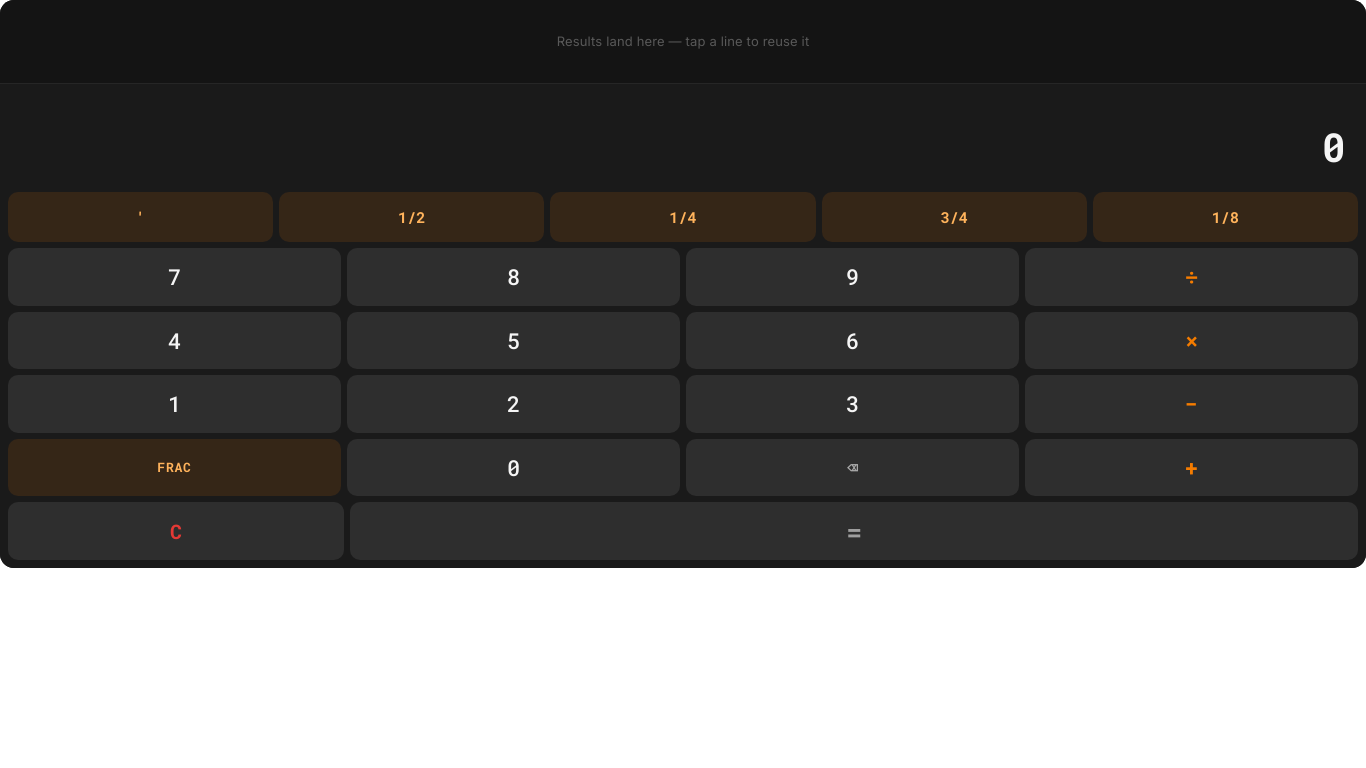
it: TapeCalc UI › division by zero shows error
This screenshot has width=1366, height=768.
Click the button "5". click: point(514, 340)
box: [347,312,680,369]
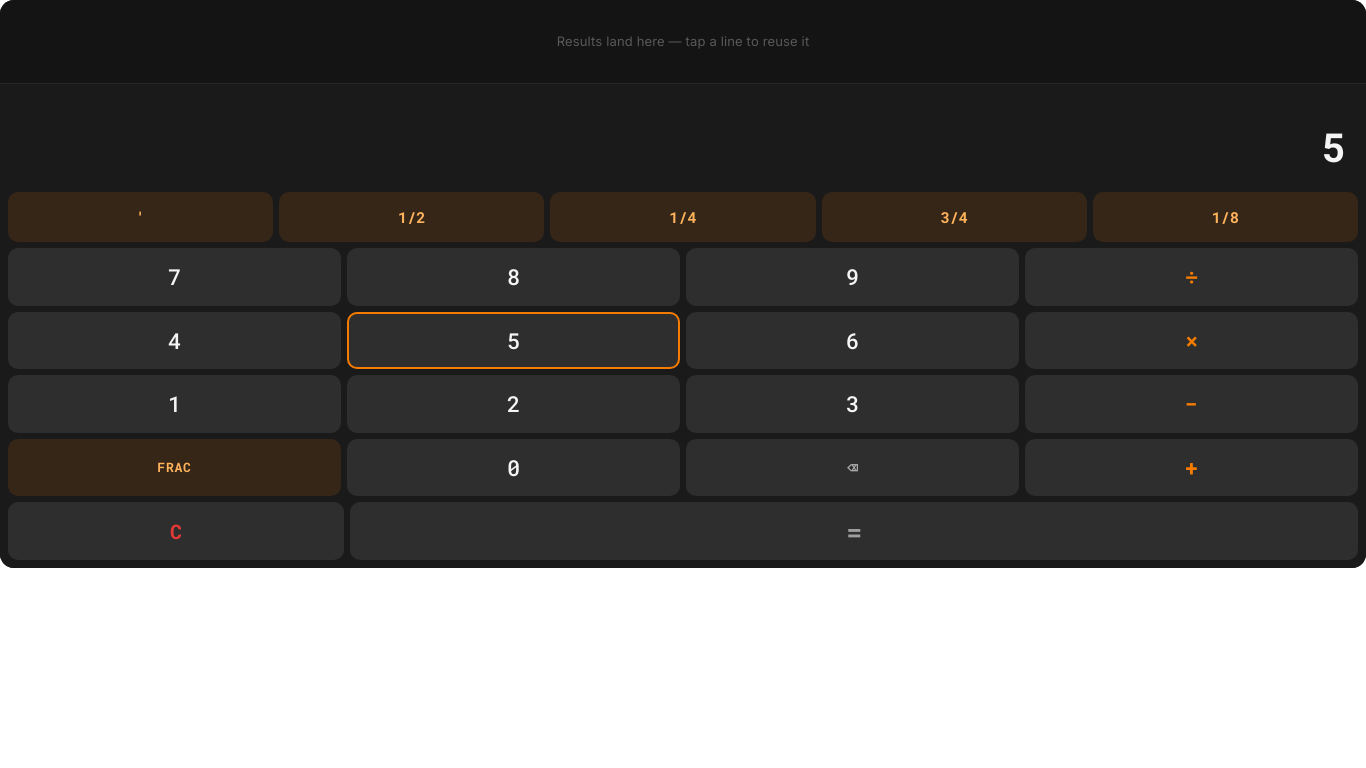
Click the button named "divide". click: point(1192, 277)
box: [1025,248,1358,306]
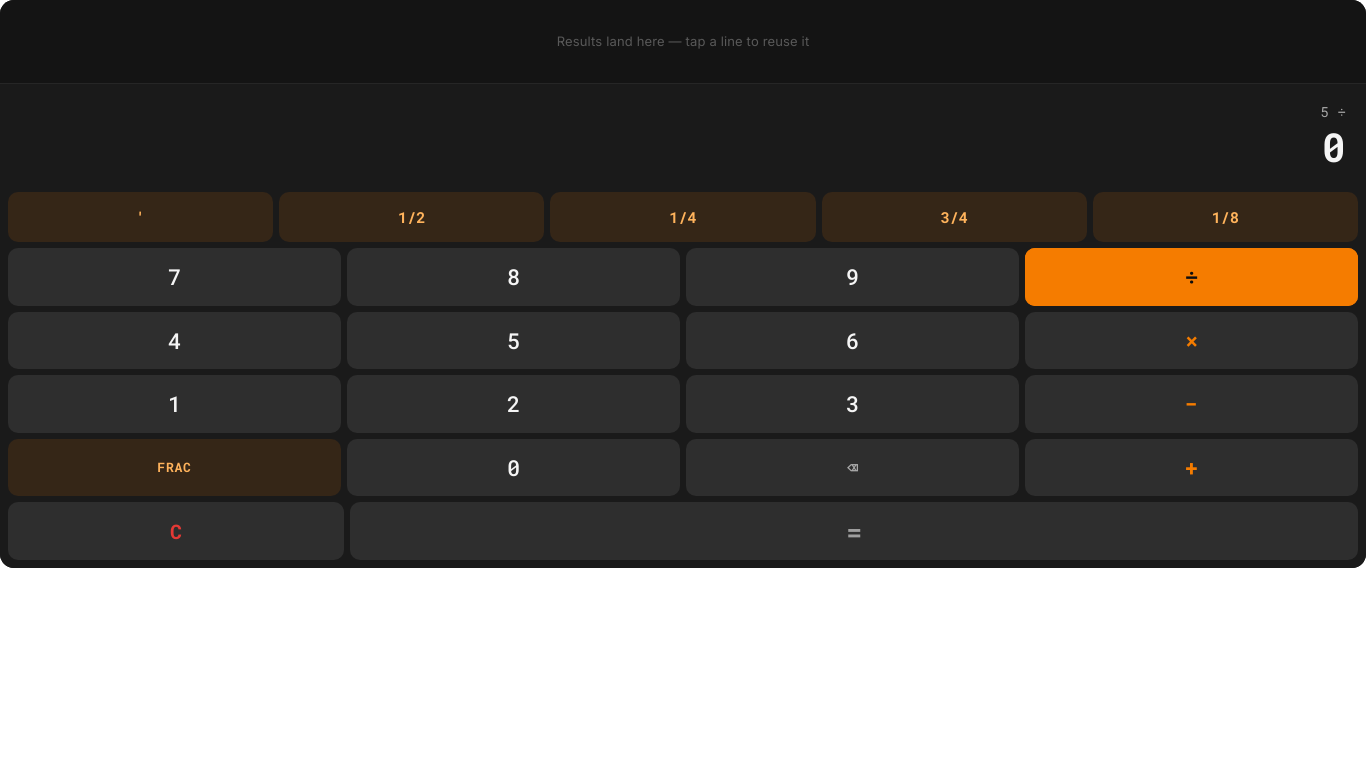
Click the button "0". click: point(514, 468)
box: [347,439,680,496]
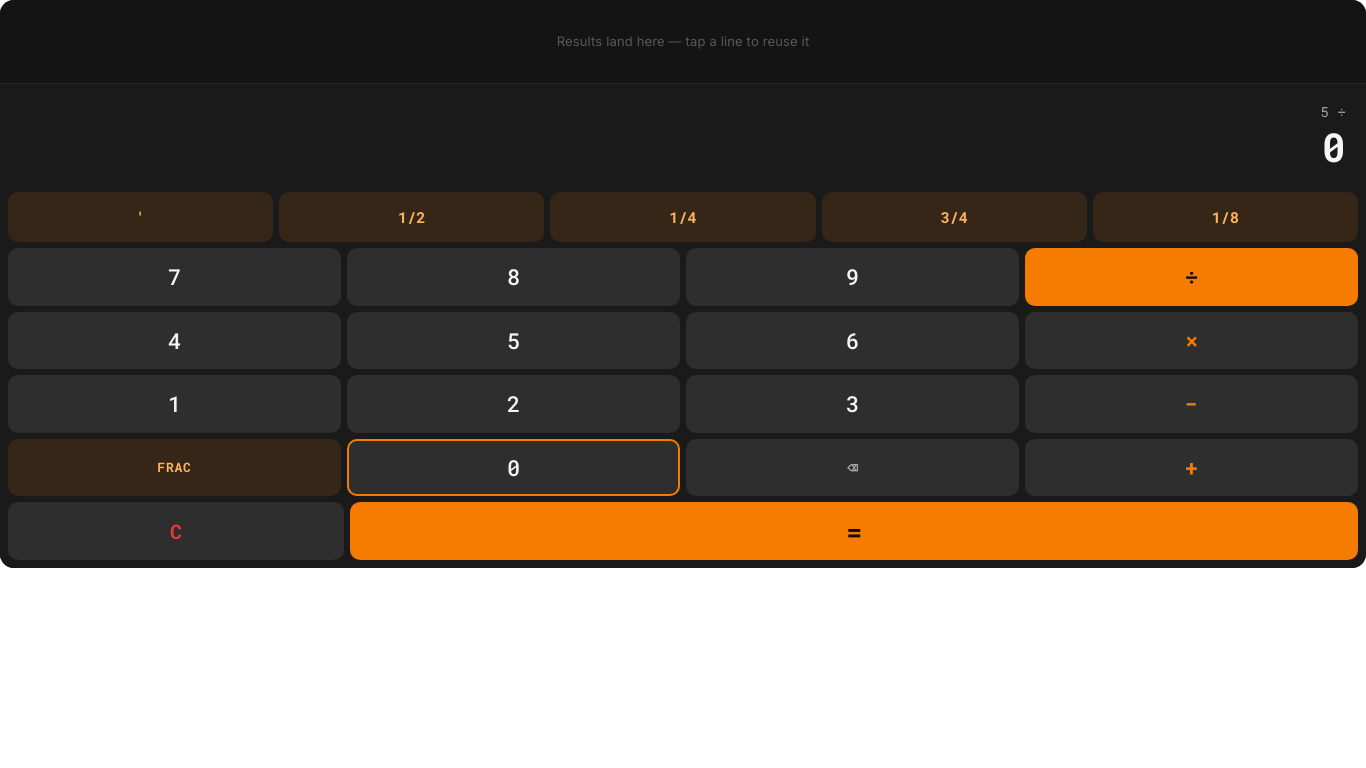
Click the button named "calculate". click: point(854, 531)
box: [350,502,1358,560]
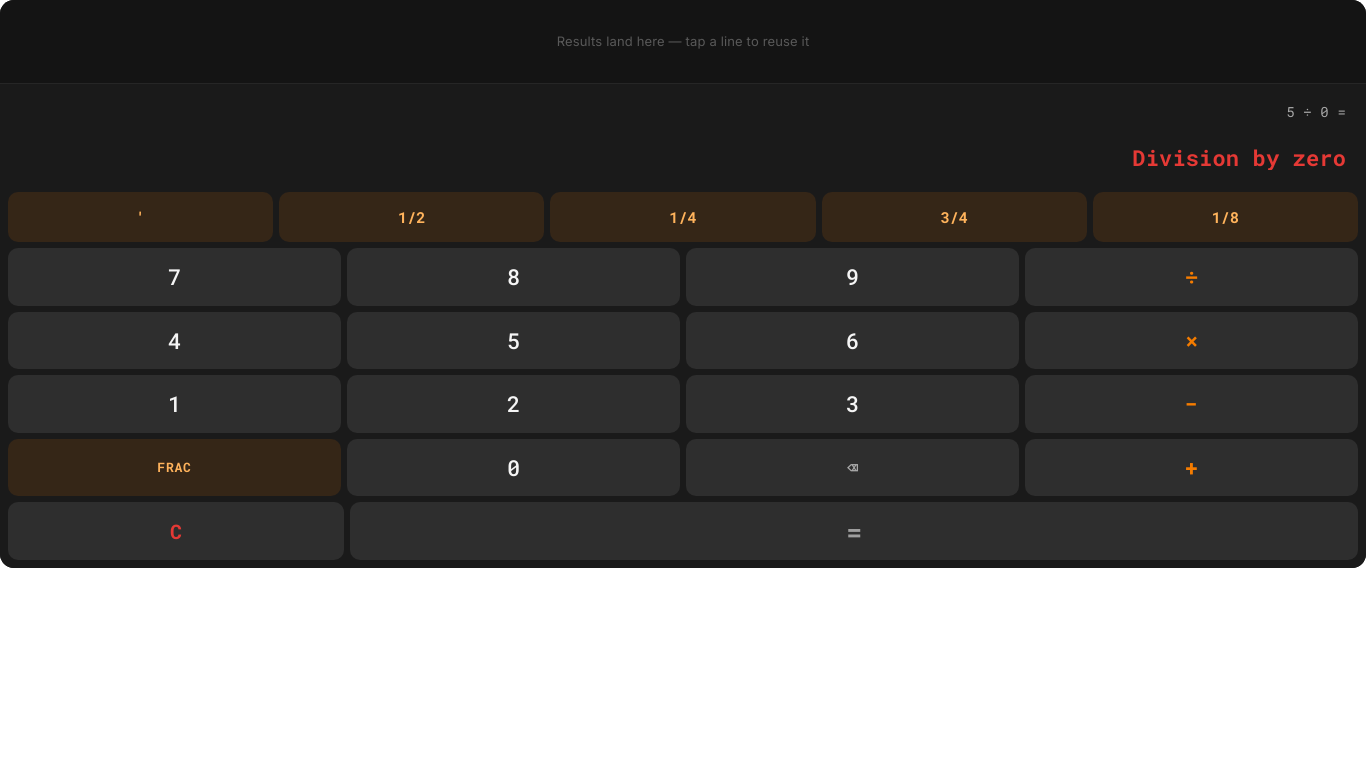
Expected: the text with test id "display-value" reads "Division by zero", [1132,143,1346,172]
